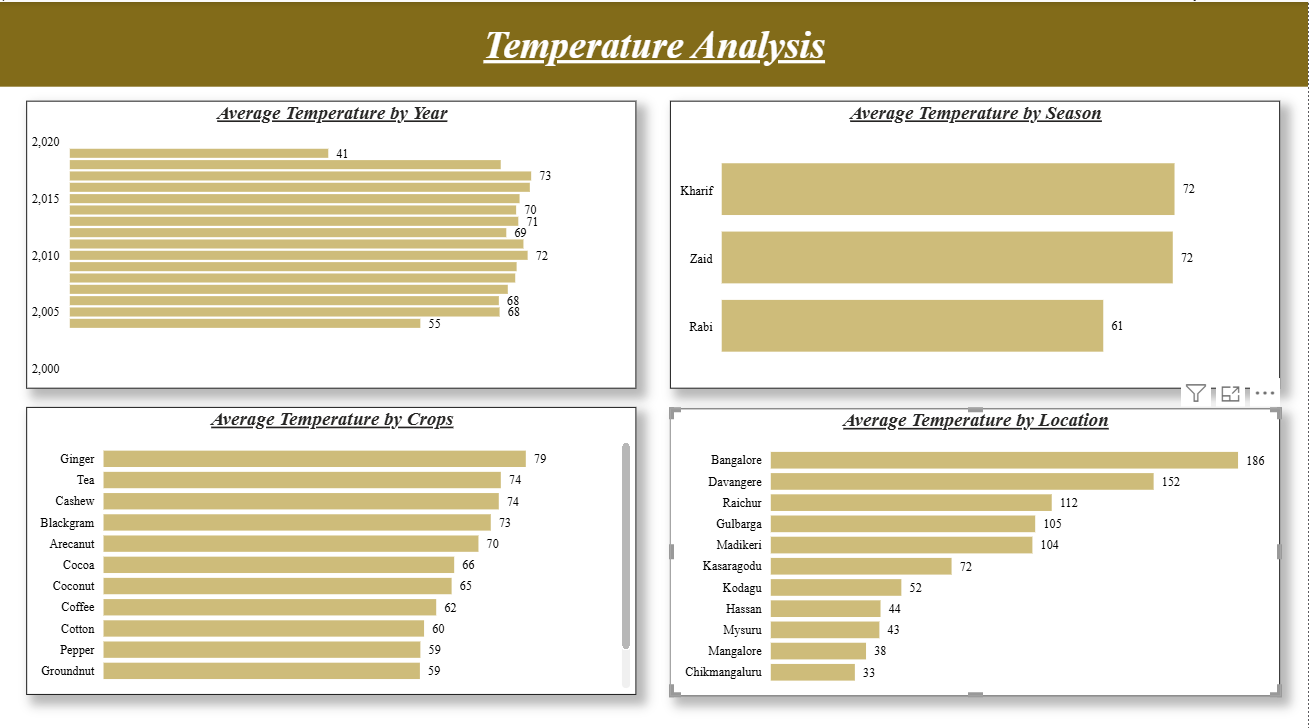

The page's visual inventory and layout, read from the dashboard file:
{"tool":"powerbi","page":{"name":"Temperature Analysis","canvas":[1280,720],"ordinal":1},"visuals":[{"type":"shape","box":[0,0,1280,82.9],"z":0},{"type":"barChart","title":"Average Temperature by Year","fields":{"Category":["ARGRICULTURE.YEAR"],"Y":["Avg(ARGRICULTURE.TEMPERATURE)"]},"box":[25.7,97.1,597.1,281.4],"z":1000},{"type":"barChart","title":"Average Temperature by Season","fields":{"Category":["ARGRICULTURE.SEASON"],"Y":["Avg(ARGRICULTURE.TEMPERATURE)"]},"box":[655.7,97.1,597.1,281.4],"z":2000},{"type":"barChart","title":"Average Temperature by Crops","fields":{"Category":["ARGRICULTURE.CROPS"],"Y":["Avg(ARGRICULTURE.TEMPERATURE)"]},"box":[25.7,395.7,597.1,281.4],"z":3000},{"type":"barChart","title":"Average Temperature by  Location","fields":{"Category":["ARGRICULTURE.LOCATION"],"Y":["Avg(ARGRICULTURE.TEMPERATURE)"]},"box":[655.7,397.1,597.1,281.4],"z":4000}]}

Visuals, with their boxes in screenshot pixels (x1, y1, x2, y2), scaled from the page's 1280x720 canvas onto the 1309x728 screenshot:
shape: 0,0,1308,84
"Average Temperature by Year" barChart: 26,98,637,383
"Average Temperature by Season" barChart: 671,98,1281,383
"Average Temperature by Crops" barChart: 26,400,637,685
"Average Temperature by  Location" barChart: 671,402,1281,686
